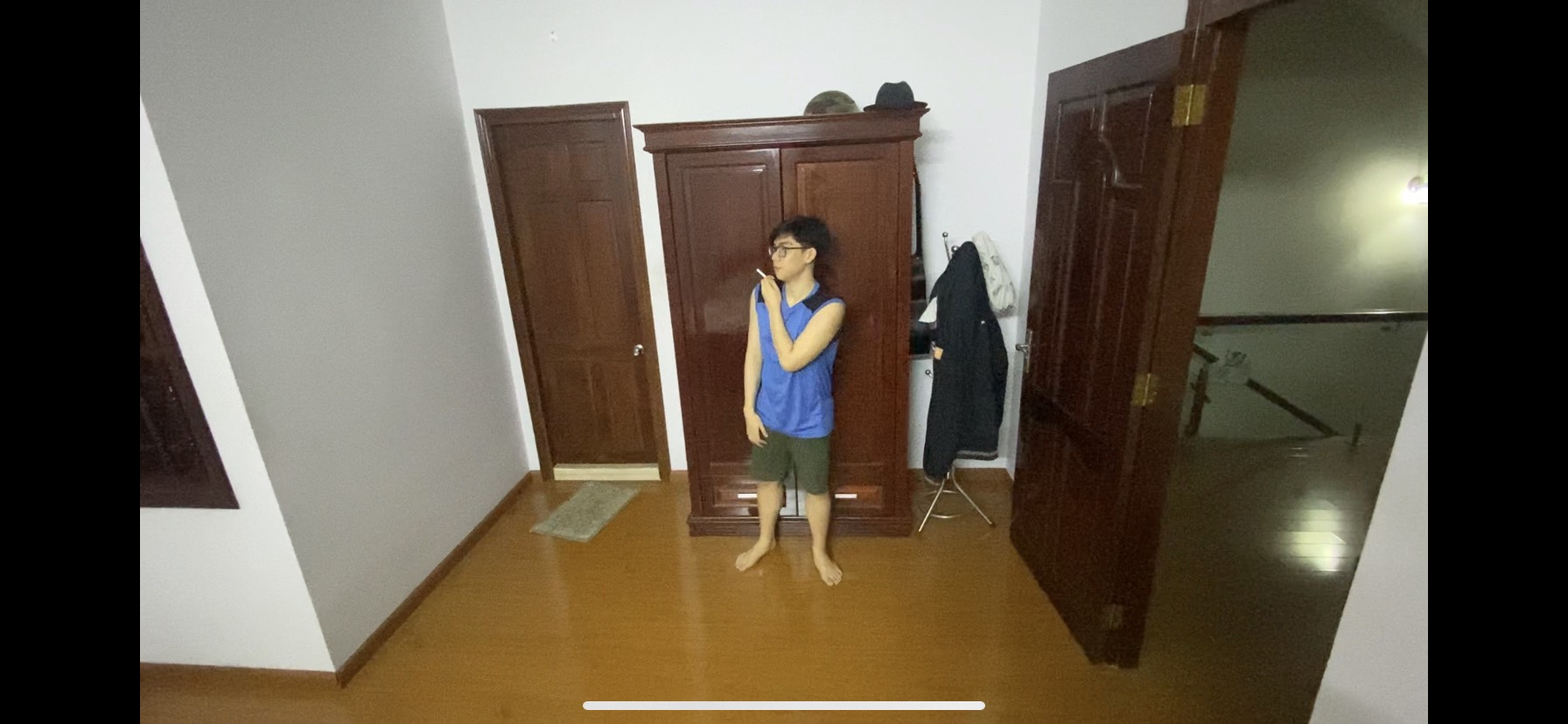cigarette: (757, 268, 768, 279)
person: (715, 210, 856, 602)
